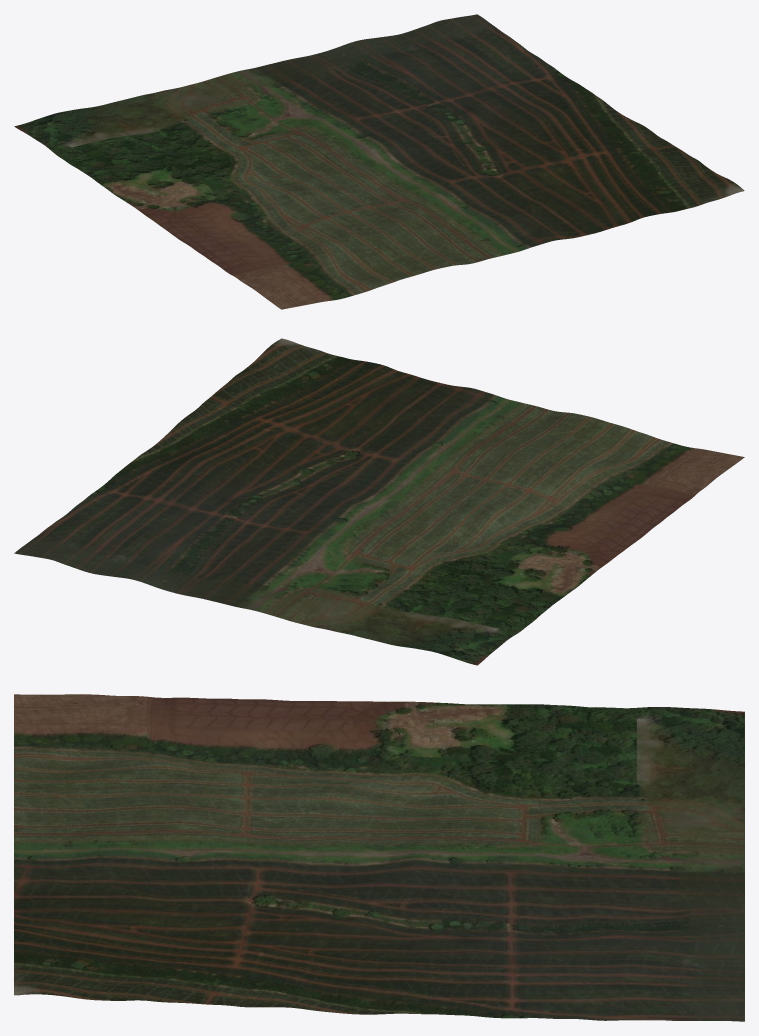
The model's file is twin.glb.
3 renders of one model, top to bottom at view 1: azimuth 30°, elevation 25°; view 2: azimuth 150°, elevation 25°; view 3: azimuth 270°, elevation 25°, orthographic. The views are drawn at different scales.
Visible parts, largest first — view 1: terrain; view 2: terrain; view 3: terrain.
Boxes of the visible parts, left/top/right/bottom form: terrain: left=14, top=14, right=744, bottom=309; terrain: left=14, top=338, right=744, bottom=665; terrain: left=14, top=694, right=744, bottom=1021.
Size of the model in its own units: 800 by 35.13 by 800.
Materials: 1 (1 with a texture image).
